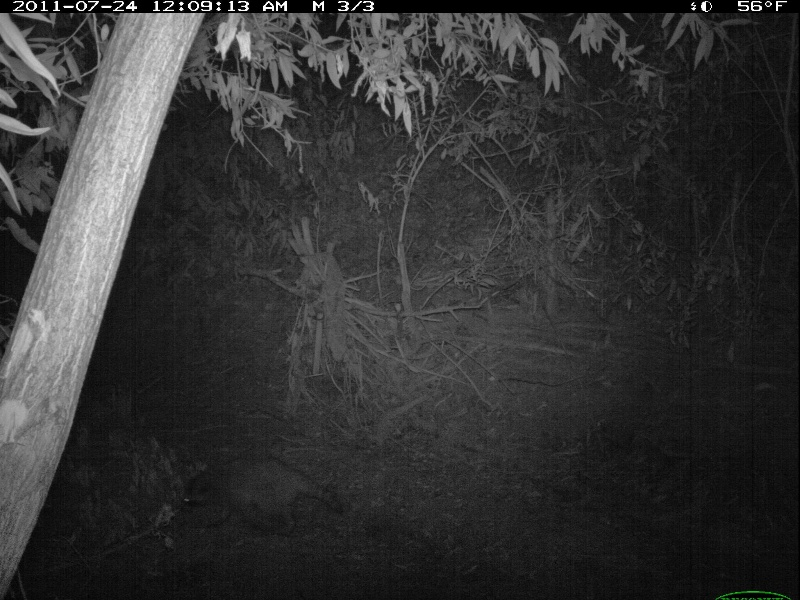raccoon: (183, 454, 343, 530)
